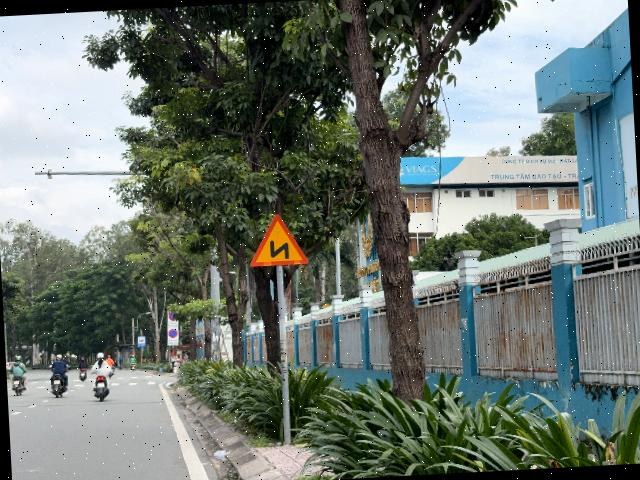nhieu-cho-ngoat-nguy-hiem-lien-tiep: (247, 212, 309, 267)
